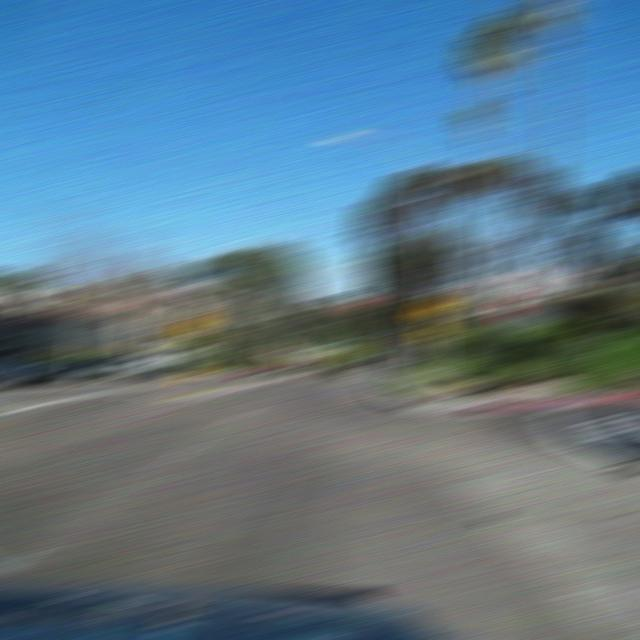stop_sign: (496, 292, 524, 321)
